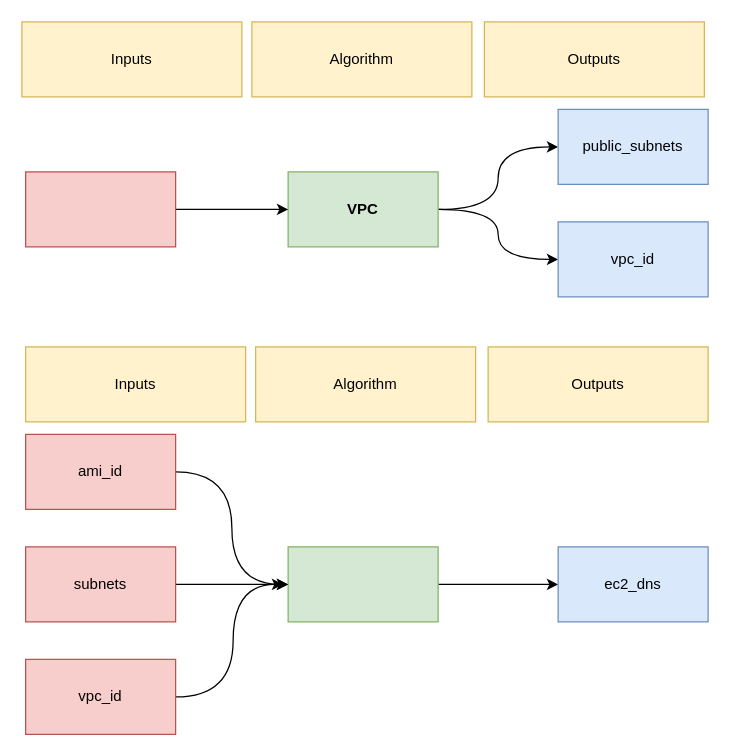
The diagram is 730 pixels wide and 756 high, and some of its shapes have lost their labels. The centre of each missing label's shape, as x and y in pixels:
EC2: (362,584)
region: (100,209)
